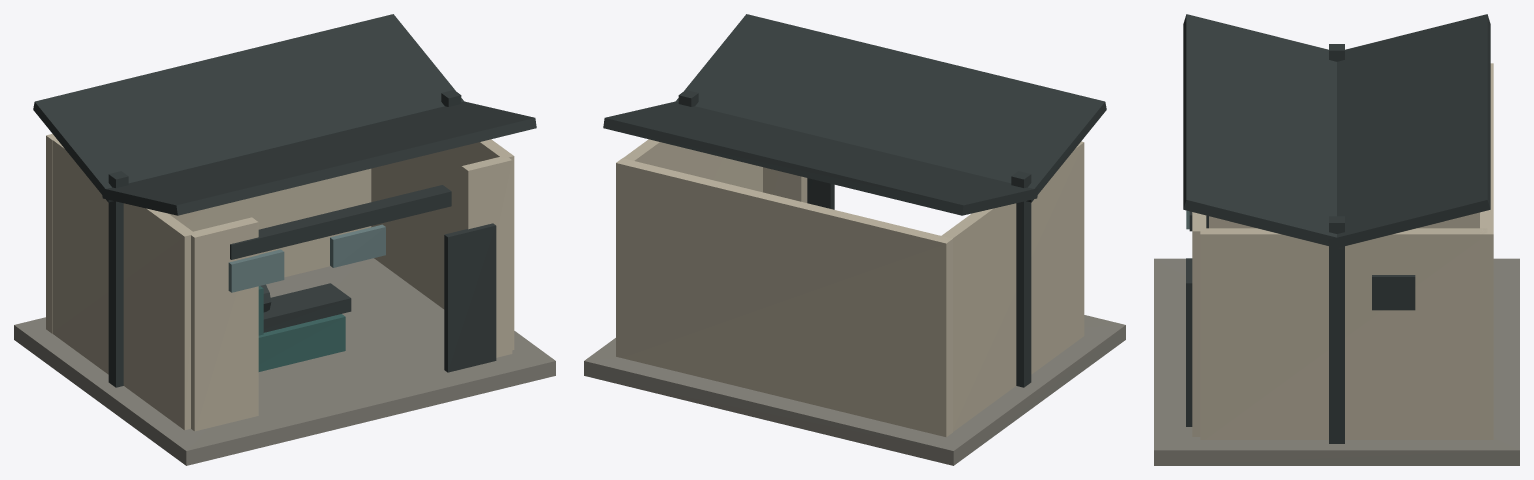
File: machine-shop.source.glb
3 views of the same model, side by side, from view 1: azimuth 30°, elevation 25°; view 2: azimuth 150°, elevation 25°; view 3: azimuth 270°, elevation 25° (orthographic). The views are drawn at different scales.
Parts seen in each view (by area): view 1: machine-shop-pitched-roof-rear-mesh, machine-shop-grounded-concrete-slab-mesh, machine-shop-left-wall-mesh, machine-shop-pitched-roof-front-mesh, machine-shop-front-left-bay-mesh, machine-shop-right-wall-mesh, machine-shop-rear-wall-mesh, machine-shop-narrow-personnel-door-mesh, machine-shop-front-door-pier-mesh, machine-shop-front-access-header-mesh, machine-shop-lathe-base-mesh, machine-shop-corner-frame-left-mesh (+3 smaller); view 2: machine-shop-rear-wall-mesh, machine-shop-pitched-roof-front-mesh, machine-shop-left-wall-mesh, machine-shop-pitched-roof-rear-mesh, machine-shop-grounded-concrete-slab-mesh, machine-shop-right-wall-mesh, machine-shop-corner-frame-left-mesh, machine-shop-front-door-pier-mesh, machine-shop-narrow-personnel-door-mesh; view 3: machine-shop-right-wall-mesh, machine-shop-pitched-roof-rear-mesh, machine-shop-pitched-roof-front-mesh, machine-shop-grounded-concrete-slab-mesh, machine-shop-rear-wall-mesh, machine-shop-corner-frame-right-mesh, machine-shop-front-door-pier-mesh, machine-shop-wall-vent-mesh, machine-shop-narrow-personnel-door-mesh, machine-shop-left-wall-mesh.
Part boxes in pixels (x1=…): machine-shop-pitched-roof-rear-mesh: x1=33, y1=14, x2=464, y2=202; machine-shop-grounded-concrete-slab-mesh: x1=14, y1=258, x2=555, y2=465; machine-shop-left-wall-mesh: x1=52, y1=139, x2=195, y2=430; machine-shop-pitched-roof-front-mesh: x1=101, y1=101, x2=536, y2=215; machine-shop-front-left-bay-mesh: x1=188, y1=217, x2=258, y2=431; machine-shop-right-wall-mesh: x1=371, y1=139, x2=514, y2=350; machine-shop-rear-wall-mesh: x1=46, y1=134, x2=371, y2=333; machine-shop-narrow-personnel-door-mesh: x1=444, y1=223, x2=496, y2=372; machine-shop-front-door-pier-mesh: x1=461, y1=157, x2=512, y2=357; machine-shop-front-access-header-mesh: x1=230, y1=185, x2=451, y2=259; machine-shop-lathe-base-mesh: x1=258, y1=314, x2=345, y2=371; machine-shop-corner-frame-left-mesh: x1=108, y1=171, x2=128, y2=387; machine-shop-rear-wall-mesh: x1=616, y1=158, x2=952, y2=437; machine-shop-pitched-roof-front-mesh: x1=675, y1=14, x2=1106, y2=202; machine-shop-left-wall-mesh: x1=940, y1=141, x2=1084, y2=431; machine-shop-pitched-roof-rear-mesh: x1=603, y1=101, x2=1038, y2=215; machine-shop-grounded-concrete-slab-mesh: x1=584, y1=315, x2=1125, y2=465; machine-shop-right-wall-mesh: x1=623, y1=139, x2=762, y2=192; machine-shop-corner-frame-left-mesh: x1=1011, y1=171, x2=1031, y2=387; machine-shop-front-door-pier-mesh: x1=763, y1=167, x2=807, y2=202; machine-shop-narrow-personnel-door-mesh: x1=807, y1=178, x2=834, y2=209; machine-shop-right-wall-mesh: x1=1200, y1=228, x2=1487, y2=439; machine-shop-pitched-roof-rear-mesh: x1=1328, y1=14, x2=1490, y2=249; machine-shop-pitched-roof-front-mesh: x1=1183, y1=14, x2=1345, y2=249; machine-shop-grounded-concrete-slab-mesh: x1=1154, y1=258, x2=1519, y2=465; machine-shop-rear-wall-mesh: x1=1480, y1=63, x2=1493, y2=439; machine-shop-corner-frame-right-mesh: x1=1329, y1=216, x2=1344, y2=443; machine-shop-front-door-pier-mesh: x1=1192, y1=212, x2=1206, y2=436; machine-shop-wall-vent-mesh: x1=1372, y1=275, x2=1415, y2=310; machine-shop-narrow-personnel-door-mesh: x1=1186, y1=258, x2=1192, y2=426; machine-shop-left-wall-mesh: x1=1209, y1=212, x2=1479, y2=228.
Size of the model in its own units: 5.2 by 3.34 by 4.2.
